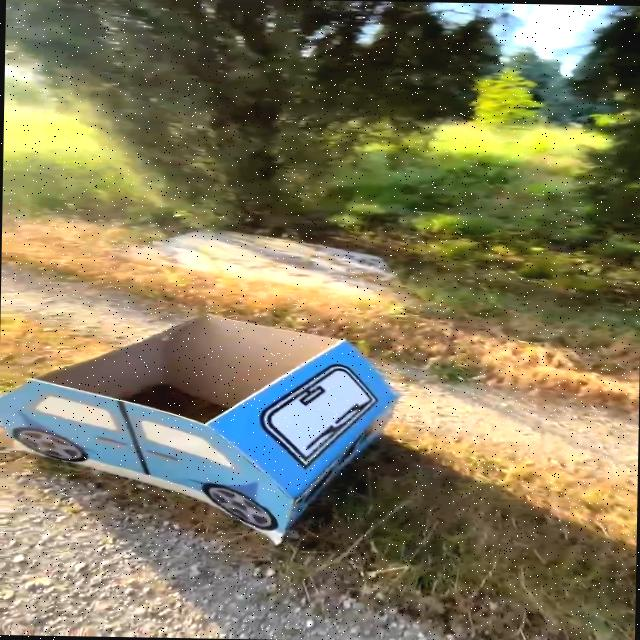blue_car: (0, 279, 455, 560)
